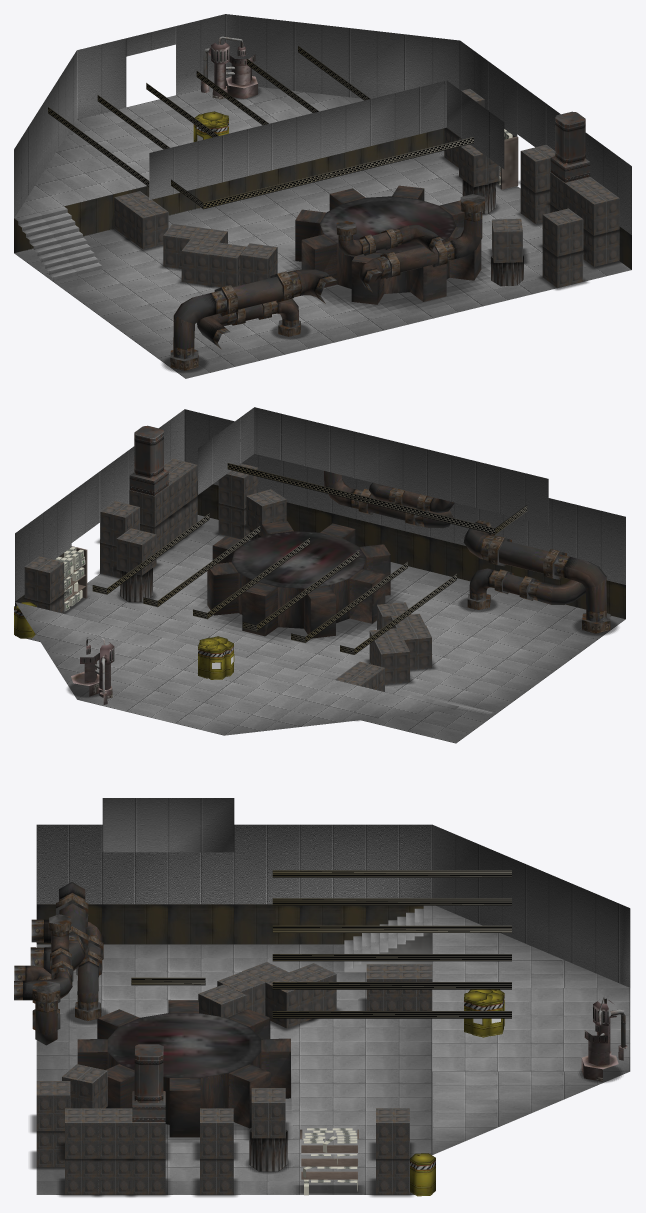
File: room_1.glb
3 renders of one model, top to bottom at view 1: azimuth 30°, elevation 25°; view 2: azimuth 150°, elevation 25°; view 3: azimuth 270°, elevation 25°, orthographic. The views are drawn at different scales.
Visible parts, largest first — view 1: floor, walls, TopCeiling, CBMetalBoxSides (×13), floor2, platform_wall, MintGearFloor, MintGear2, stairs, props (×3), RoundShadow, Lights6 (+14 smaller); view 2: floor, walls, floor2, TopCeiling, CBMetalBoxSides (×10), MintGearFloor, MintGear2, props (×2), Lights6, LargePipe2Elbow2, RoundShadow, shaft (+13 smaller); view 3: walls, floor, floor2, CBMetalBoxSides (×20), MintGearFloor, TopCeiling, MintGear2, props (×2), stairs, LongLights_Lights4, LongLights_Lights6, Lights1 (+14 smaller).
Boxes of the visible parts, left/top/right/bottom form: floor: left=14, top=150, right=631, bottom=378; walls: left=14, top=14, right=631, bottom=269; TopCeiling: left=149, top=80, right=504, bottom=199; CBMetalBoxSides (×13): left=128, top=146, right=619, bottom=287; floor2: left=14, top=87, right=363, bottom=218; platform_wall: left=14, top=128, right=444, bottom=252; MintGearFloor: left=295, top=185, right=464, bottom=262; MintGear2: left=295, top=189, right=481, bottom=304; stairs: left=15, top=206, right=102, bottom=280; props (×3): left=201, top=36, right=523, bottom=286; RoundShadow: left=286, top=251, right=490, bottom=310; Lights6: left=171, top=137, right=473, bottom=209; floor: left=27, top=515, right=625, bottom=743; walls: left=15, top=409, right=625, bottom=635; floor2: left=15, top=602, right=454, bottom=735; TopCeiling: left=198, top=407, right=548, bottom=525; CBMetalBoxSides (×10): left=24, top=468, right=431, bottom=684; MintGearFloor: left=210, top=521, right=390, bottom=598; MintGear2: left=207, top=524, right=390, bottom=638; props (×2): left=71, top=568, right=152, bottom=704; Lights6: left=227, top=463, right=527, bottom=534; LargePipe2Elbow2: left=554, top=554, right=606, bottom=622; RoundShadow: left=199, top=584, right=402, bottom=642; shaft: left=134, top=425, right=163, bottom=478; walls: left=36, top=824, right=630, bottom=987; floor: left=36, top=944, right=432, bottom=1194; floor2: left=432, top=905, right=630, bottom=1154; CBMetalBoxSides (×20): left=36, top=974, right=432, bottom=1194; MintGearFloor: left=77, top=1000, right=290, bottom=1090; TopCeiling: left=102, top=798, right=234, bottom=852; MintGear2: left=77, top=1018, right=290, bottom=1137; props (×2): left=249, top=996, right=627, bottom=1171; stairs: left=344, top=905, right=432, bottom=968; LongLights_Lights4: left=272, top=898, right=511, bottom=905; LongLights_Lights6: left=272, top=870, right=511, bottom=877; Lights1: left=272, top=982, right=511, bottom=989.
Size of the model in its own units: 140 by 45.32 by 141.
32 materials, 30 textured.
